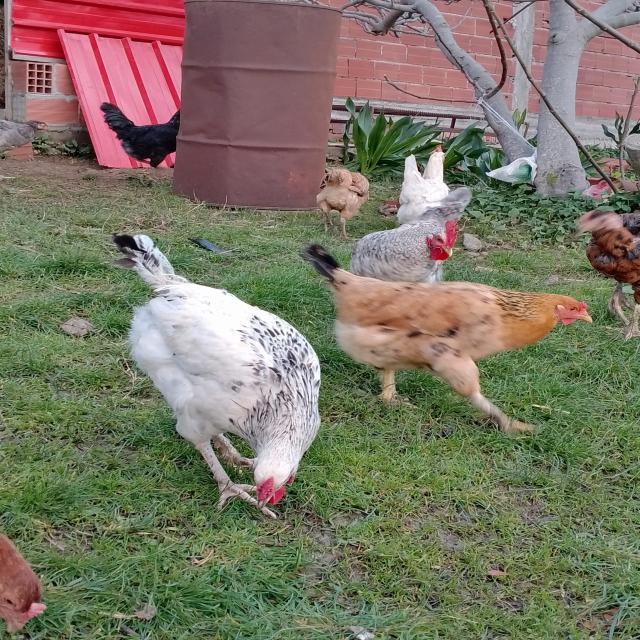Healthy: (102, 214, 324, 517)
